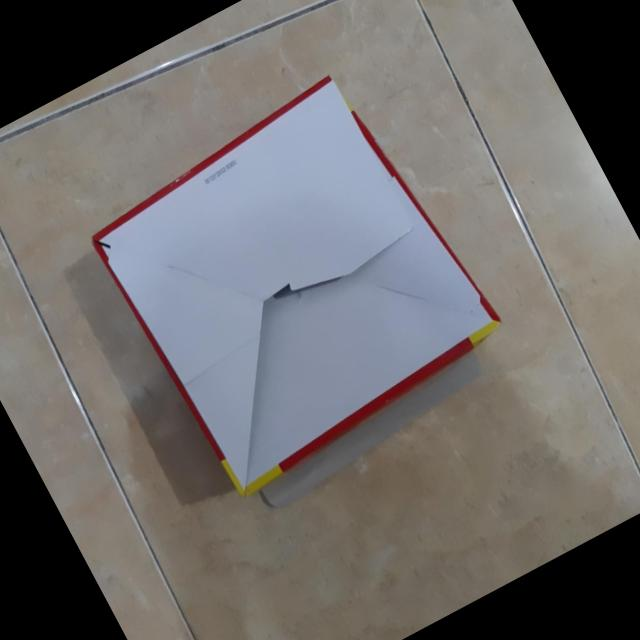Kardus: (72, 54, 520, 506)
